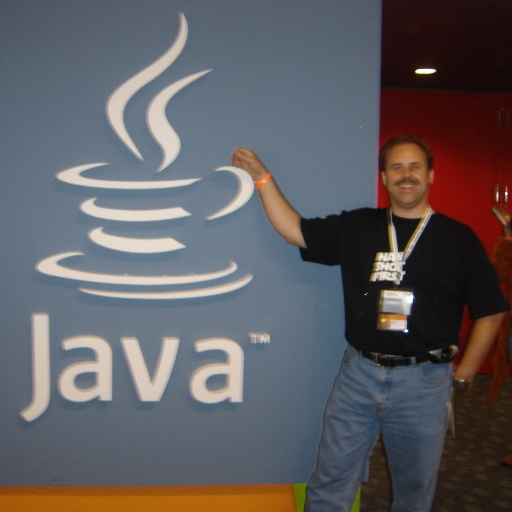hand: (234, 147, 293, 207), (453, 373, 471, 392)
